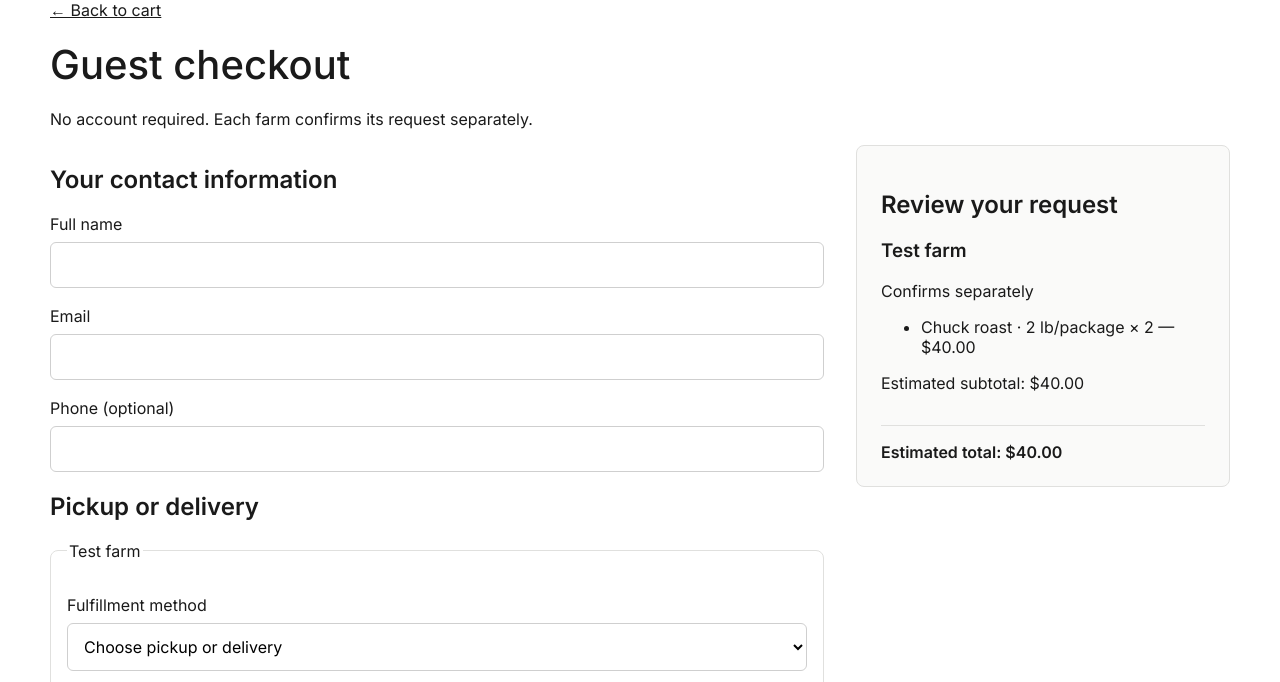
Test: allows a rejected pickup choice to be corrected
Type "Test shopper" into the field labelled "Full name" at (437,265), box [50,242,824,288]
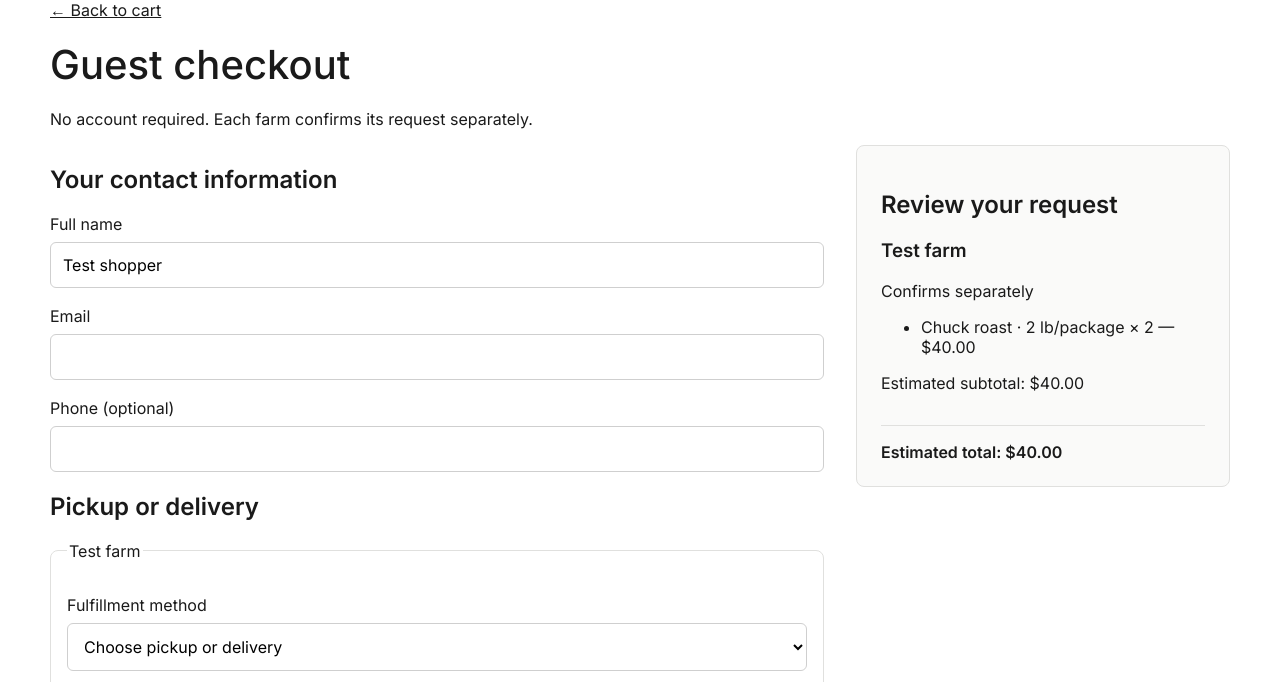
Type "test@example.com" into the field labelled "Email" at (437,357), box [50,334,824,380]
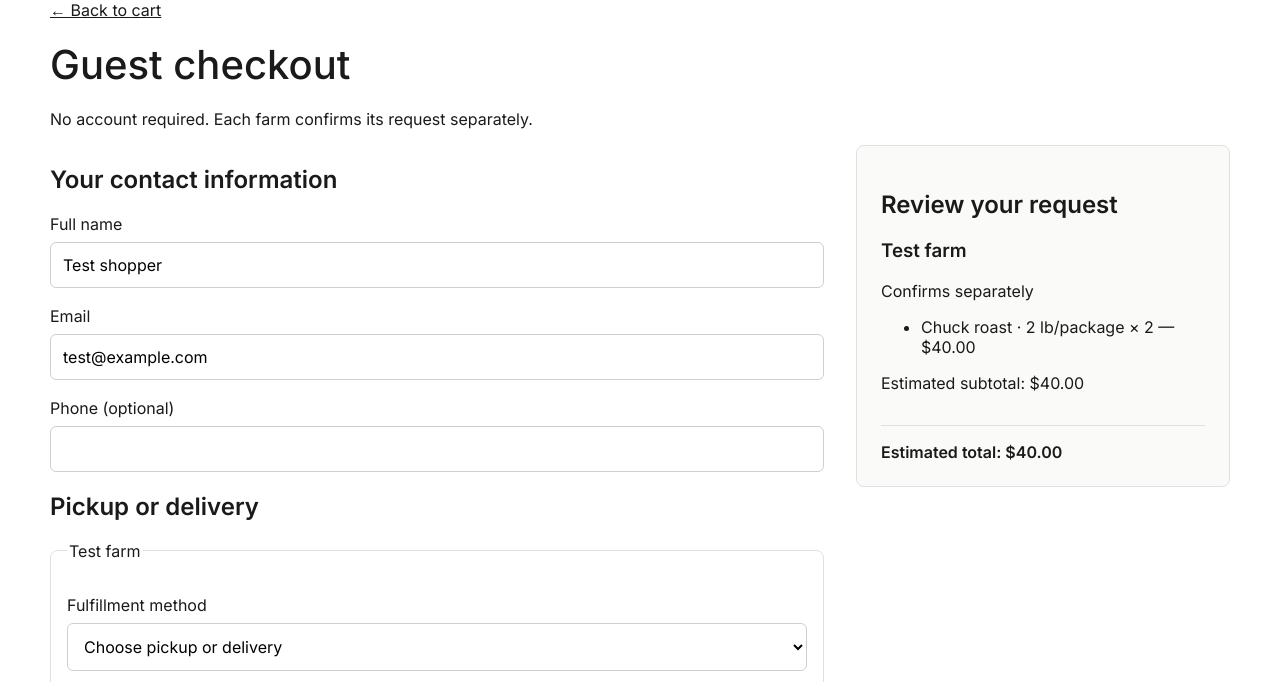
Select "Pickup" in the dropdown labelled "Fulfillment method" at (437,647), box [67,623,807,671]
(page scrolled)
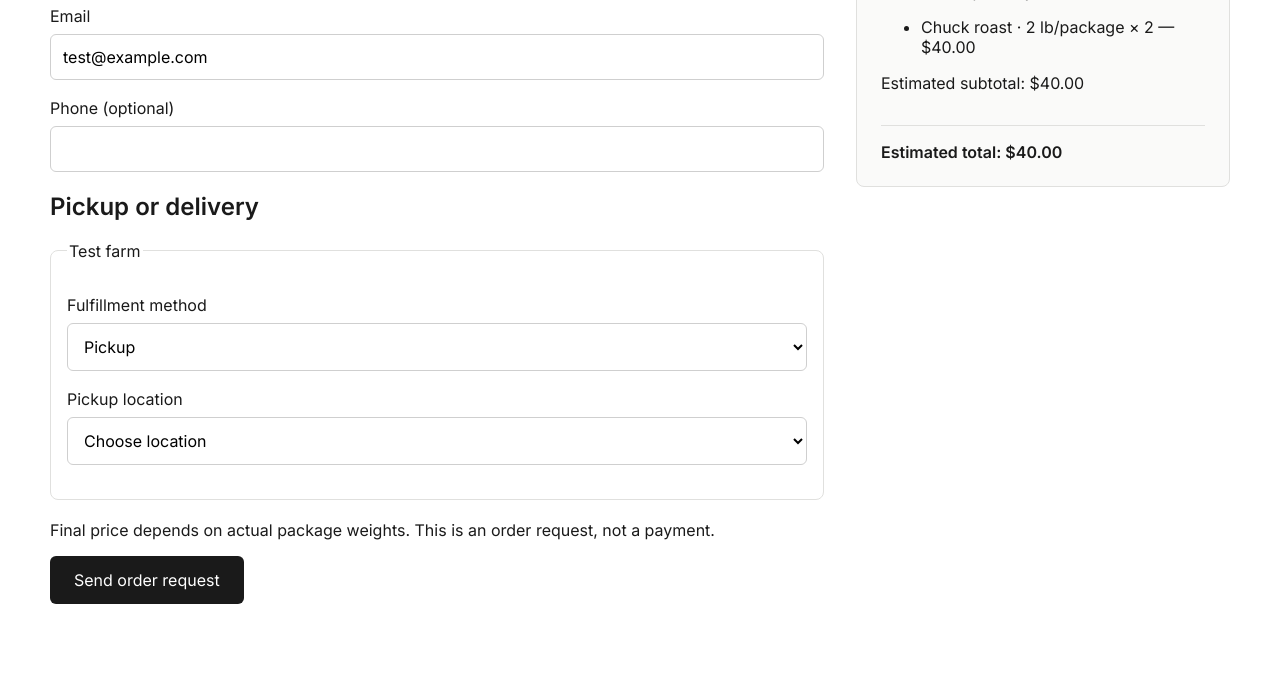
Select "Farm gate — 123 Farm Road" in the dropdown labelled "Pickup location" at (437,441), box [67,417,807,465]
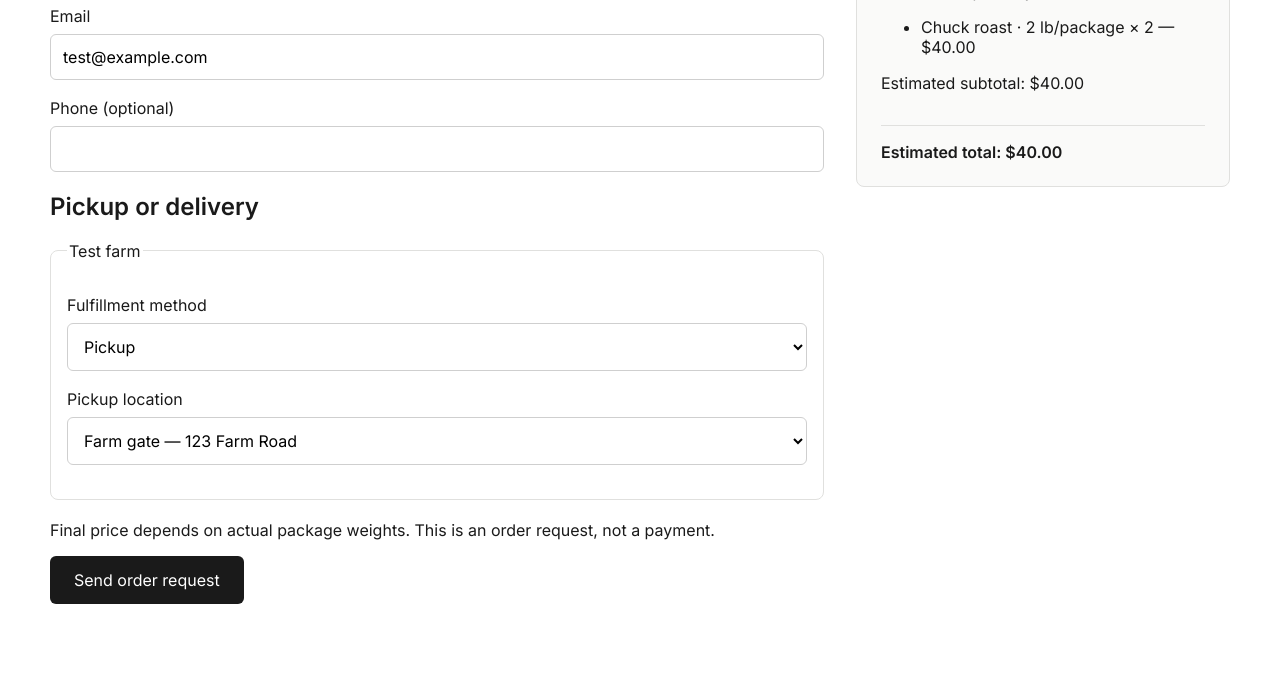
Click the button "Send order request" at (147,580), box [50,556,244,604]
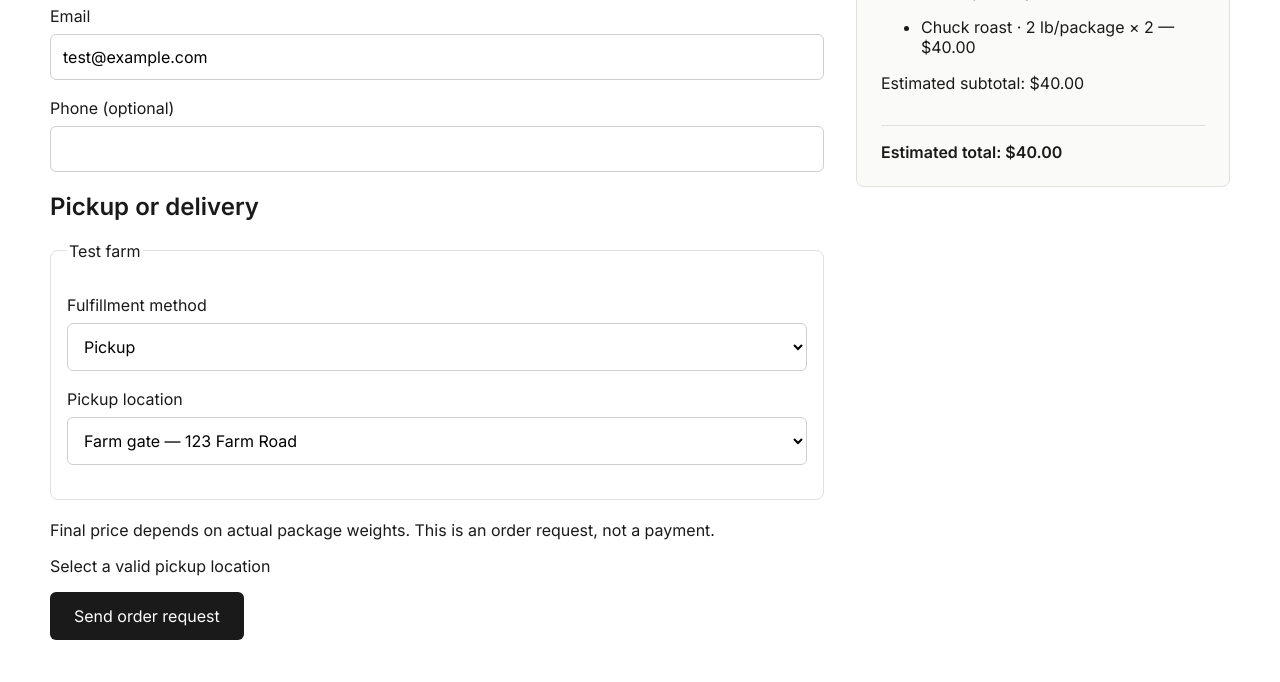
Expected: the element showing "Test farm Fulfillment method Pickup location" is enabled, [50,241,824,500]
Now the message "Select a valid pickup location" is shown, box [50,556,270,576]
Select "Delivery" in the dropdown labelled "Fulfillment method" at (437,347), box [67,323,807,371]
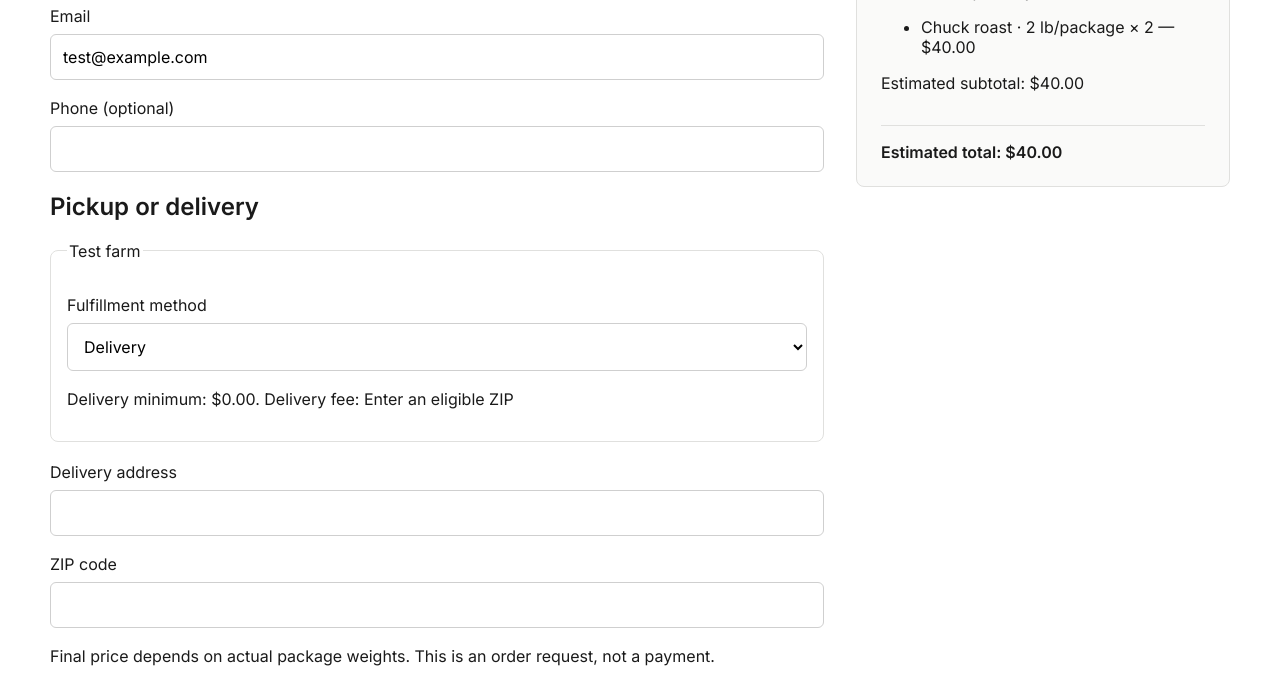
Now the field labelled "ZIP code" is enabled, box [50,582,824,628]
